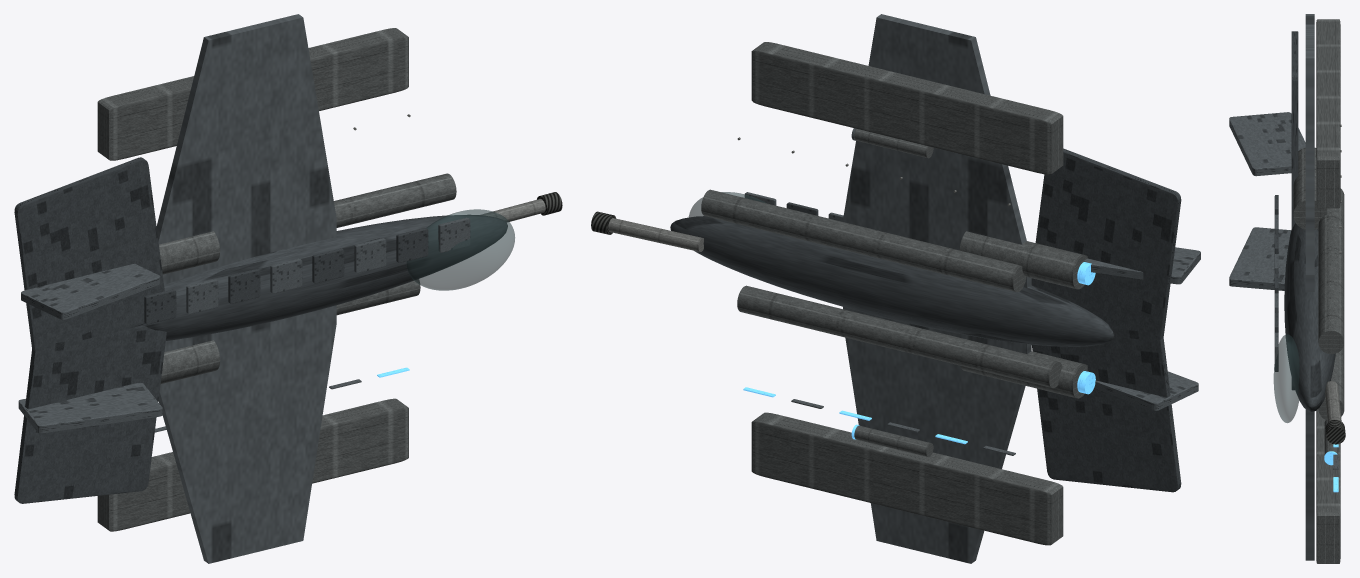
The model's file is s-u30-specter-aerial-artillery-lod0.glb.
The picture shows the model from 3 angles, left to right: view 1: azimuth 30°, elevation 25°; view 2: azimuth 150°, elevation 25°; view 3: azimuth 270°, elevation 25°; orthographic projection. The views are drawn at different scales.
Parts seen in each view (by area): view 1: combat_main_wing, combat_tailplane_-1, combat_tailplane_1, combat_fuselage, artillery_pod_1, artillery_pod_-1, combat_canopy, combat_fin_-1, combat_fin_1, aerial_launcher_5, combat_engine_1, combat_engine_0 (+11 smaller); view 2: combat_main_wing, combat_fuselage, artillery_pod_1, artillery_pod_-1, combat_tailplane_1, combat_tailplane_-1, aerial_launcher_1, aerial_launcher_0, aerial_launcher_4, combat_engine_1, aerial_launcher_3, aerial_launcher_5 (+7 smaller); view 3: combat_fuselage, artillery_pod_1, combat_main_wing, combat_fin_1, artillery_pod_-1, combat_fin_-1, aerial_launcher_5, combat_canopy, aerial_launcher_3, combat_tailplane_1, combat_engine_1, aerial_launcher_1 (+5 smaller).
Part boxes in pixels (box(x1,y1,x2,y2)): combat_main_wing: box(156, 14, 336, 563); combat_tailplane_-1: box(14, 326, 166, 503); combat_tailplane_1: box(14, 157, 164, 354); combat_fuselage: box(139, 215, 507, 340); artillery_pod_1: box(97, 28, 408, 160); artillery_pod_-1: box(97, 398, 408, 531); combat_canopy: box(406, 209, 514, 290); combat_fin_-1: box(18, 383, 162, 433); combat_fin_1: box(21, 263, 160, 319); aerial_launcher_5: box(334, 173, 456, 227); combat_engine_1: box(159, 231, 220, 274); combat_engine_0: box(160, 340, 220, 383); combat_main_wing: box(843, 14, 1031, 563); combat_fuselage: box(670, 216, 1114, 346); artillery_pod_1: box(751, 42, 1063, 174); artillery_pod_-1: box(751, 412, 1063, 545); combat_tailplane_1: box(1031, 148, 1181, 342); combat_tailplane_-1: box(1032, 328, 1181, 492); aerial_launcher_1: box(845, 225, 1026, 292); aerial_launcher_0: box(881, 321, 1062, 388); aerial_launcher_4: box(737, 285, 909, 352); combat_engine_1: box(959, 231, 1087, 289); aerial_launcher_3: box(773, 207, 948, 272); aerial_launcher_5: box(701, 189, 877, 256); combat_fuselage: box(1284, 223, 1335, 412); artillery_pod_1: box(1316, 19, 1340, 208); combat_main_wing: box(1305, 14, 1314, 560); combat_fin_1: box(1229, 112, 1305, 176); artillery_pod_-1: box(1316, 409, 1340, 563); combat_fin_-1: box(1229, 227, 1291, 290); aerial_launcher_5: box(1318, 252, 1344, 354); combat_canopy: box(1273, 334, 1299, 422); aerial_launcher_3: box(1318, 218, 1344, 307); combat_tailplane_1: box(1291, 31, 1298, 229); combat_engine_1: box(1293, 147, 1326, 229); aerial_launcher_1: box(1318, 188, 1344, 274).
Size of what is drawn, in the model's own units: 15.17 by 13.48 by 2.83.
Materials: 7 (7 with a texture image).
